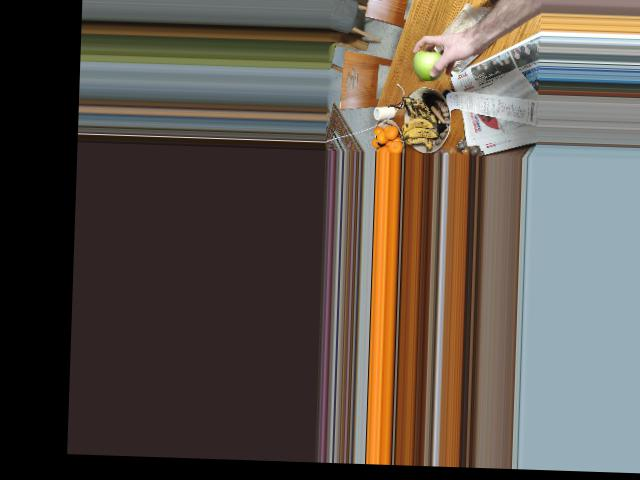apple: (410, 49, 448, 80)
